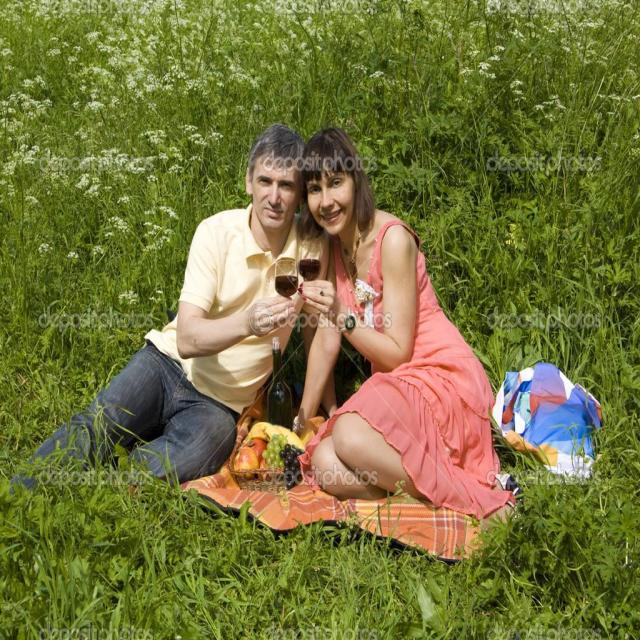Face: (304, 155, 375, 235), (245, 148, 302, 244)
